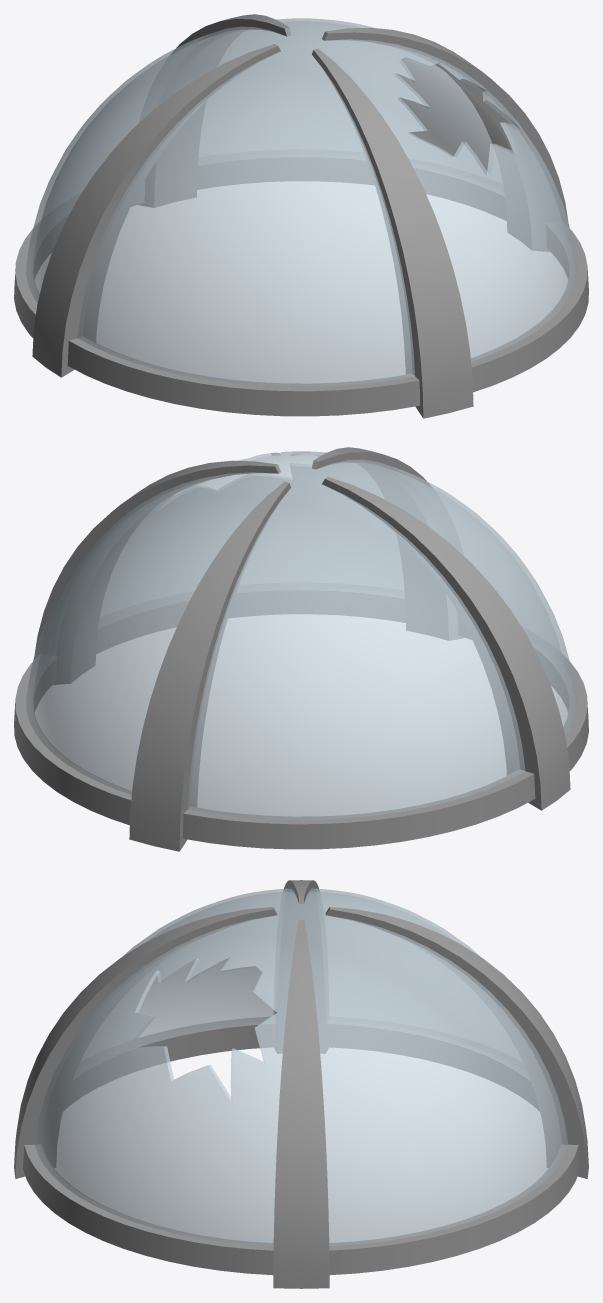
The model's file is Dome.fbx.
The picture shows the model from 3 angles, top to bottom: view 1: azimuth 30°, elevation 25°; view 2: azimuth 150°, elevation 25°; view 3: azimuth 270°, elevation 25°; orthographic projection. The views are drawn at different scales.
Parts seen in each view (by area): view 1: Dome, Claw, Rim; view 2: Dome, Claw, Rim; view 3: Dome, Claw, Rim.
Part boxes in pixels (box(x1,y1,x2,y2)): Dome: box(26, 18, 576, 386); Claw: box(32, 14, 568, 418); Rim: box(14, 154, 588, 416); Dome: box(26, 451, 576, 819); Claw: box(34, 447, 570, 851); Rim: box(14, 587, 588, 849); Dome: box(34, 888, 568, 1246); Claw: box(14, 880, 588, 1288); Rim: box(23, 1017, 579, 1275).
Bounding box in the file's own units: 2.13 × 1.06 × 2.13.
